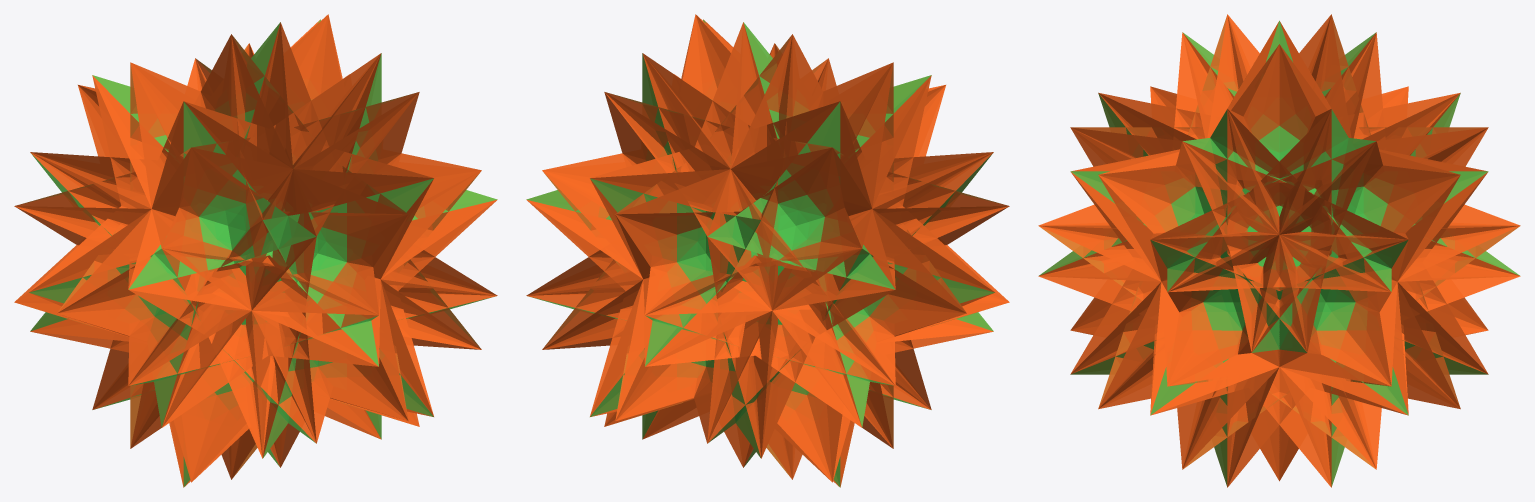
File: SmallRetrosnubIcosicosidodecahedron.obj
3 views of the same model, side by side, from view 1: azimuth 30°, elevation 25°; view 2: azimuth 150°, elevation 25°; view 3: azimuth 270°, elevation 25° (orthographic).
Bounding box in the file's own units: 1.15 × 1.15 × 1.15.
